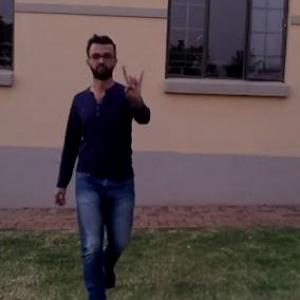takeoff-hand: (118, 59, 149, 110)
